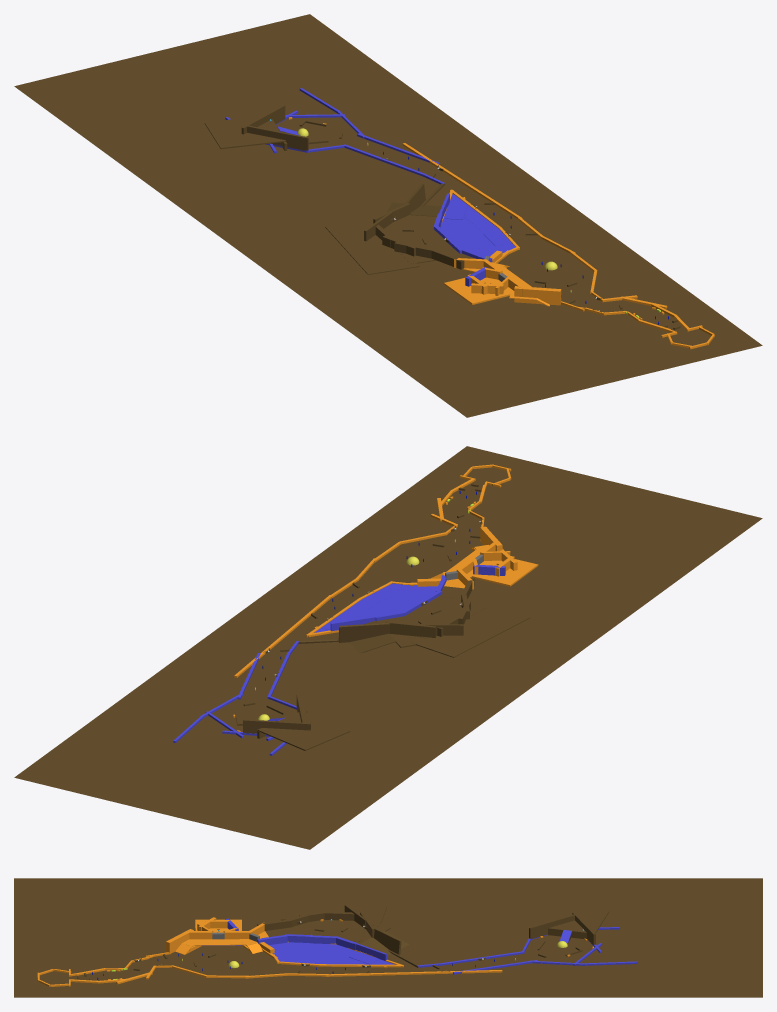
Rendered from LVL1_BO2.fbx.
3 renders of one model, top to bottom at view 1: azimuth 30°, elevation 25°; view 2: azimuth 150°, elevation 25°; view 3: azimuth 270°, elevation 25°, orthographic. The views are drawn at different scales.
Visible parts, largest first — view 1: Plane, Cube.167; view 2: Plane, Cube.167; view 3: Plane, Cube.167.
Part boxes in pixels (x1=…): Plane: x1=14, y1=14, x2=762, y2=417; Cube.167: x1=204, y1=88, x2=714, y2=349; Plane: x1=14, y1=446, x2=762, y2=849; Cube.167: x1=173, y1=464, x2=538, y2=755; Plane: x1=14, y1=878, x2=762, y2=997; Cube.167: x1=37, y1=900, x2=637, y2=986.
Bounding box in the file's own units: 31551 × 3876 × 83651.
